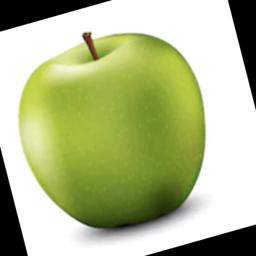Apple Fresh: (5, 0, 232, 245)
